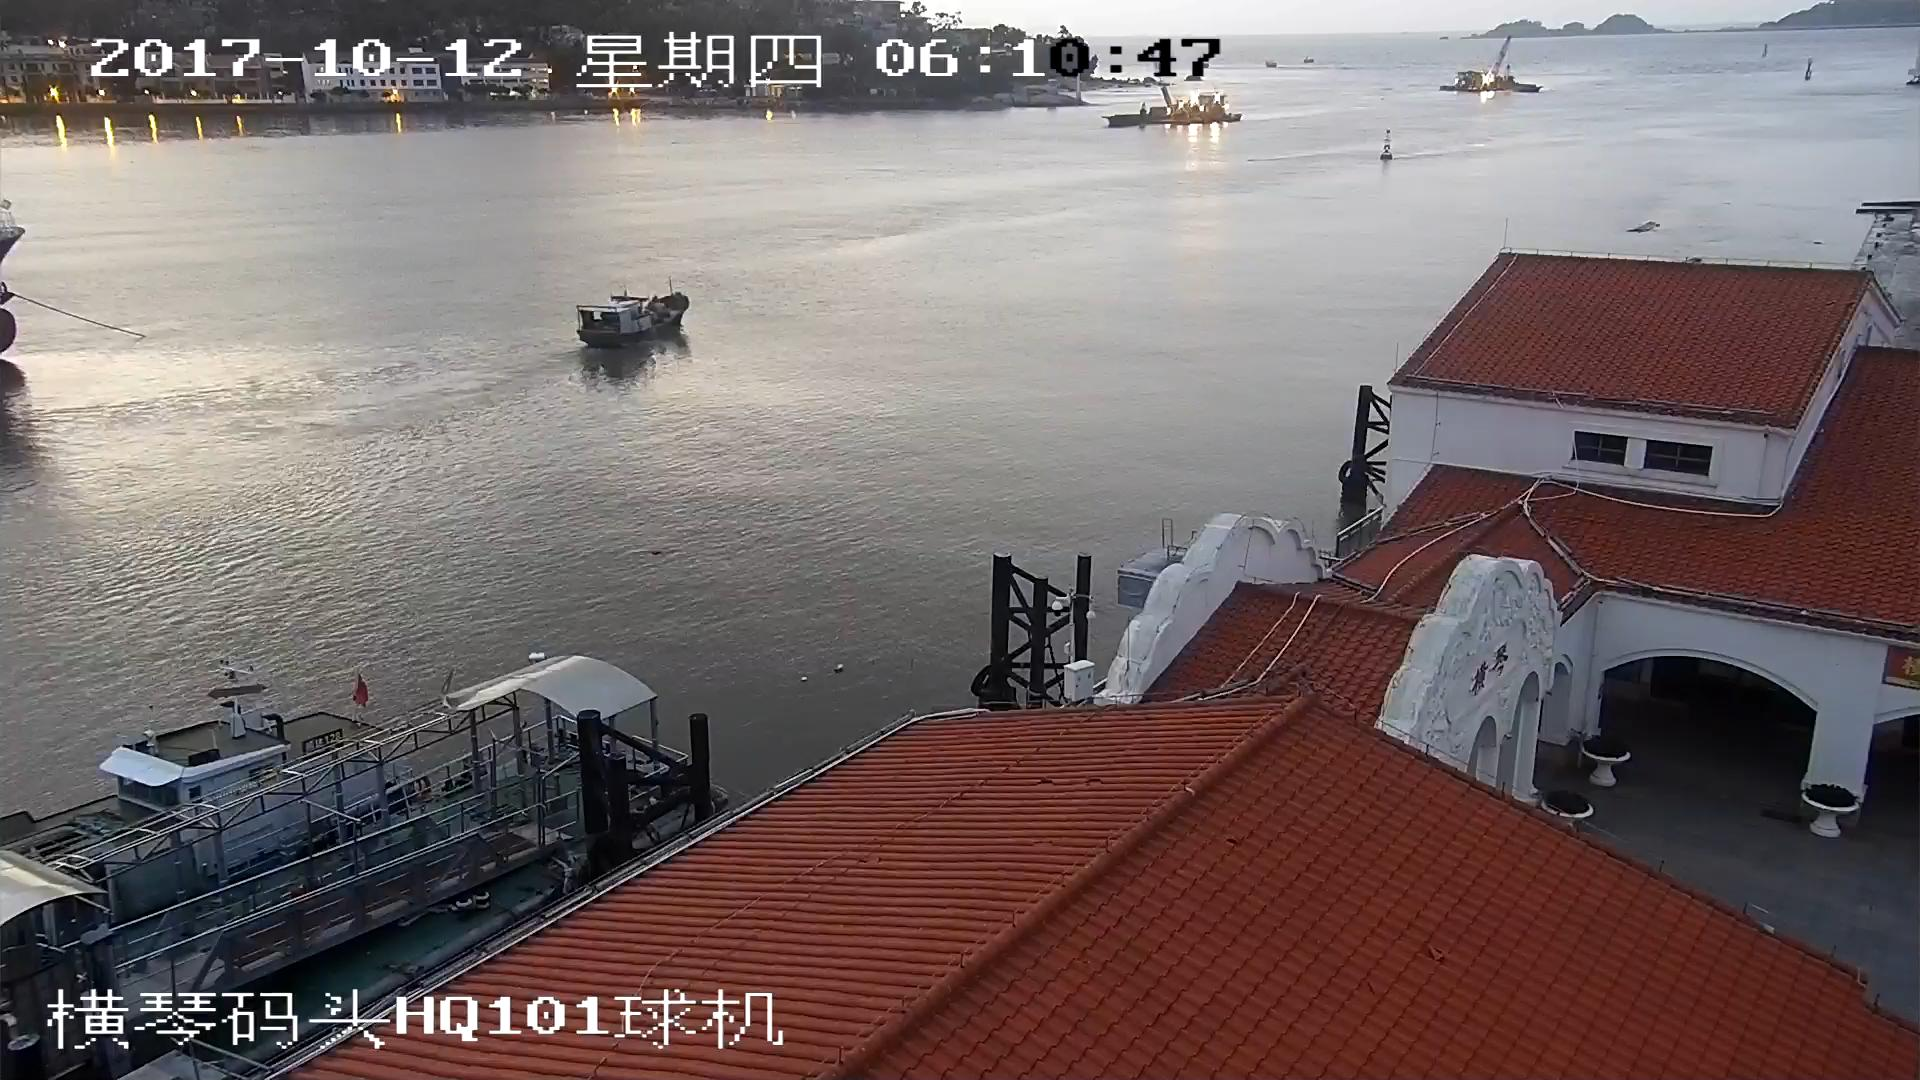fishing boat: (568, 292, 688, 340)
